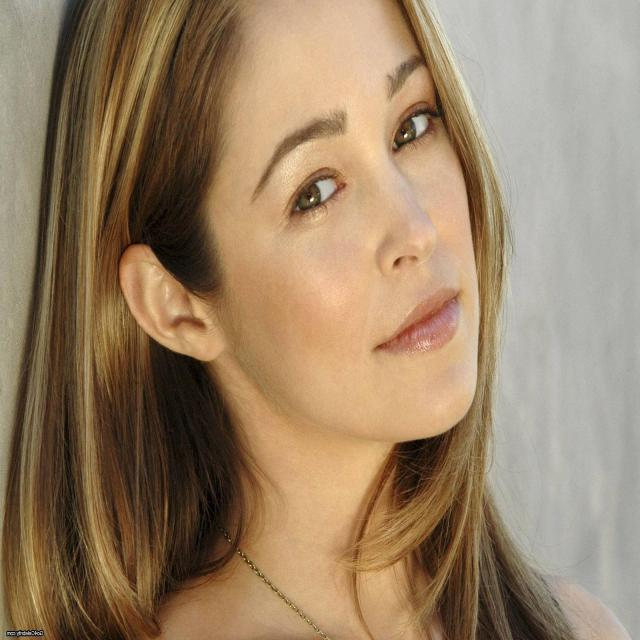no-earmuff: (99, 228, 258, 370)
